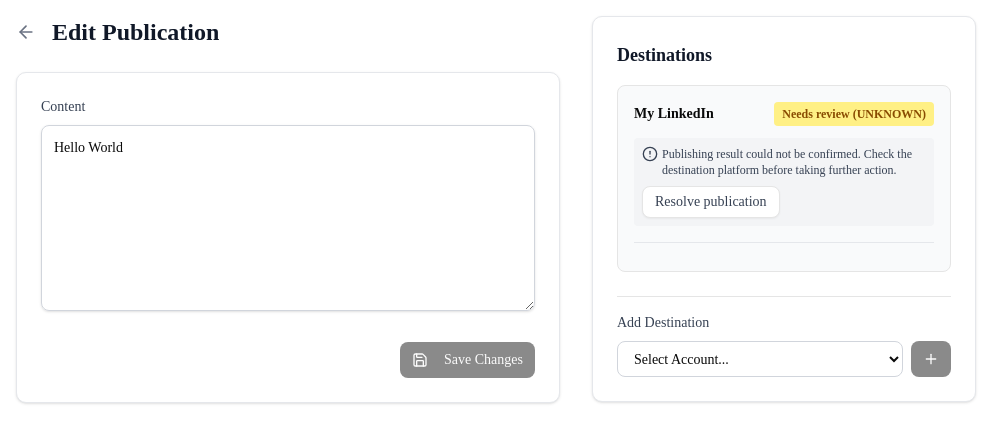
it: 17. double-submit
Click the button "Resolve publication" at (711, 202), box [642,186,780,218]
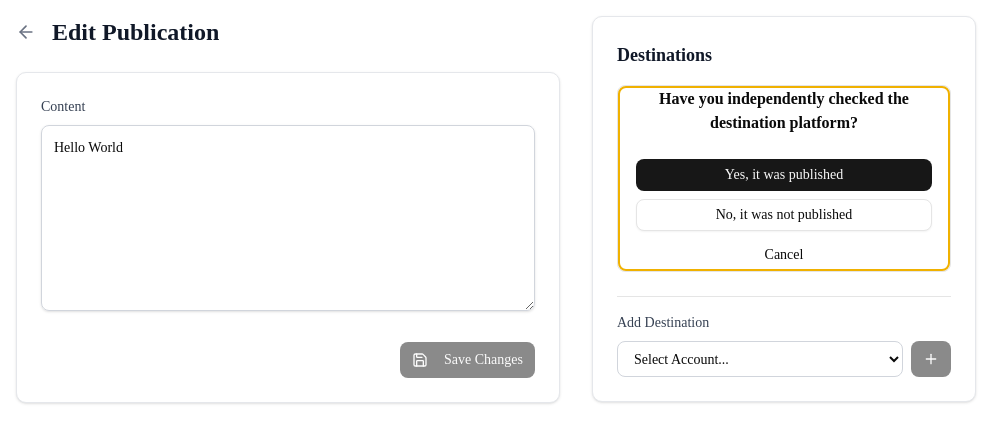
Click the button "No, it was not published" at (784, 214), box [636,198,932,230]
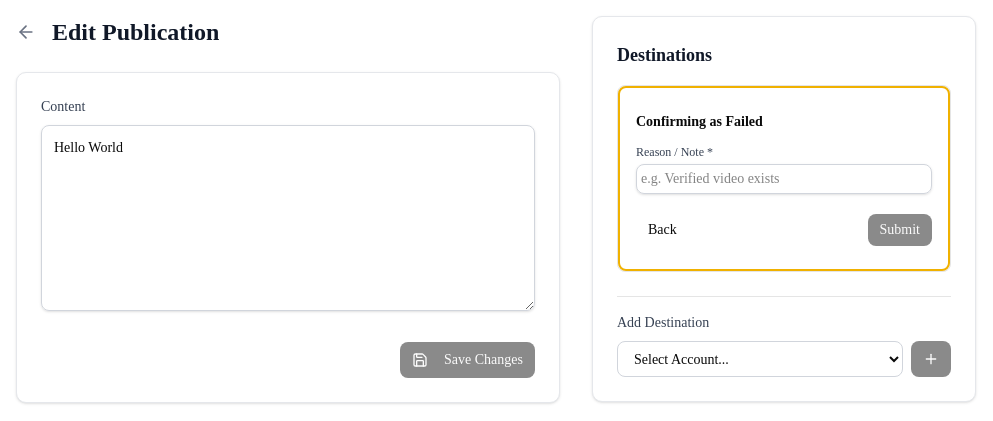
Type "Failed" into the field with placeholder "e.g. Verified video exists" at (784, 178), box [636,164,932,194]
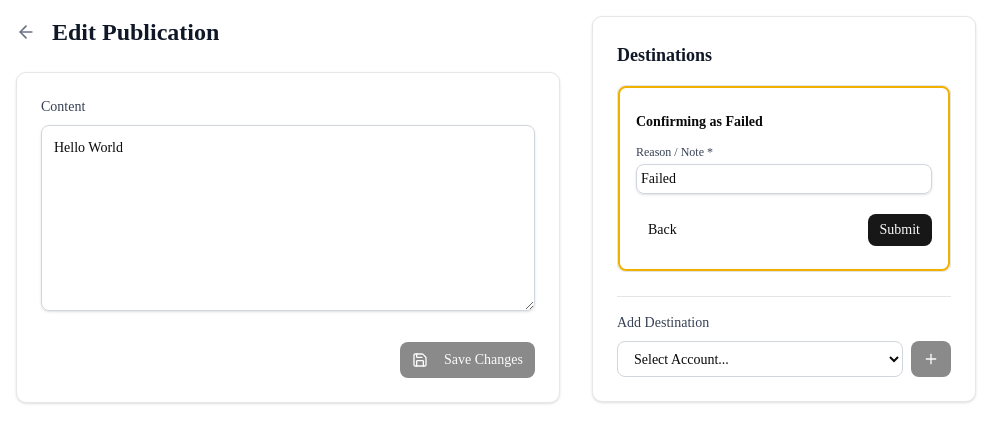
Click the button "Submit" at (900, 230), box [868,214,932,246]
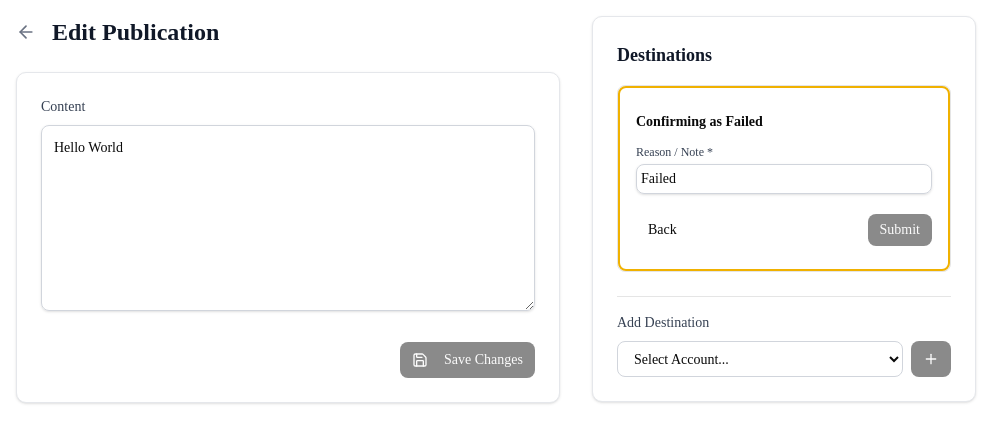
expect the button "Submit" is disabled: met, box [868,214,932,246]
